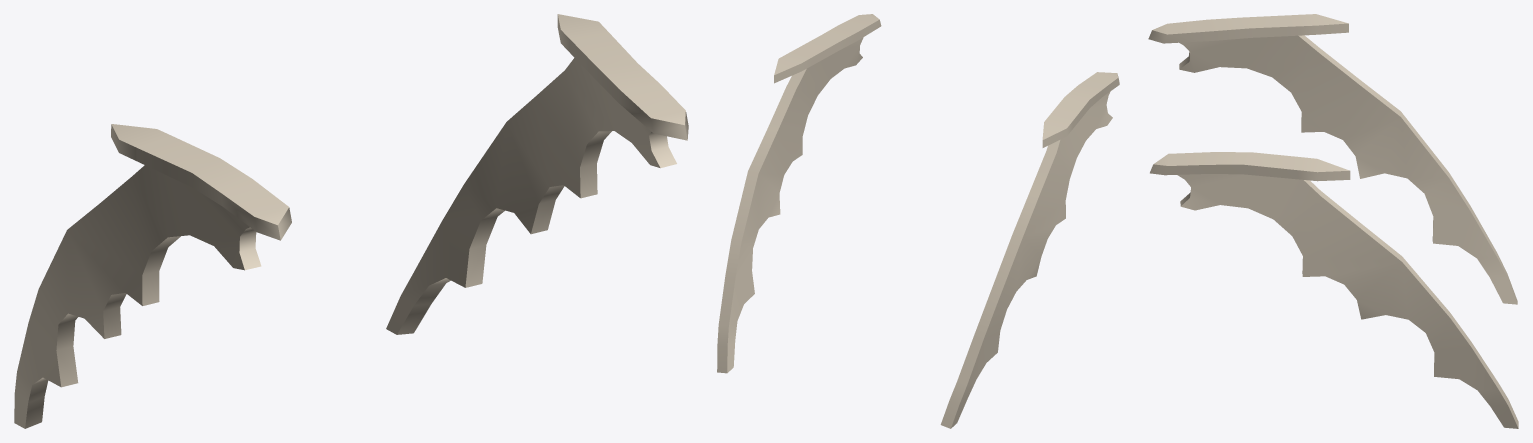
The model's file is attachedpiece-ironarmor.glb.
3 views of the same model, side by side, from view 1: azimuth 30°, elevation 25°; view 2: azimuth 150°, elevation 25°; view 3: azimuth 270°, elevation 25° (orthographic). The views are drawn at different scales.
Size of the model in its own units: 1.16 by 0.9392 by 1.15.
